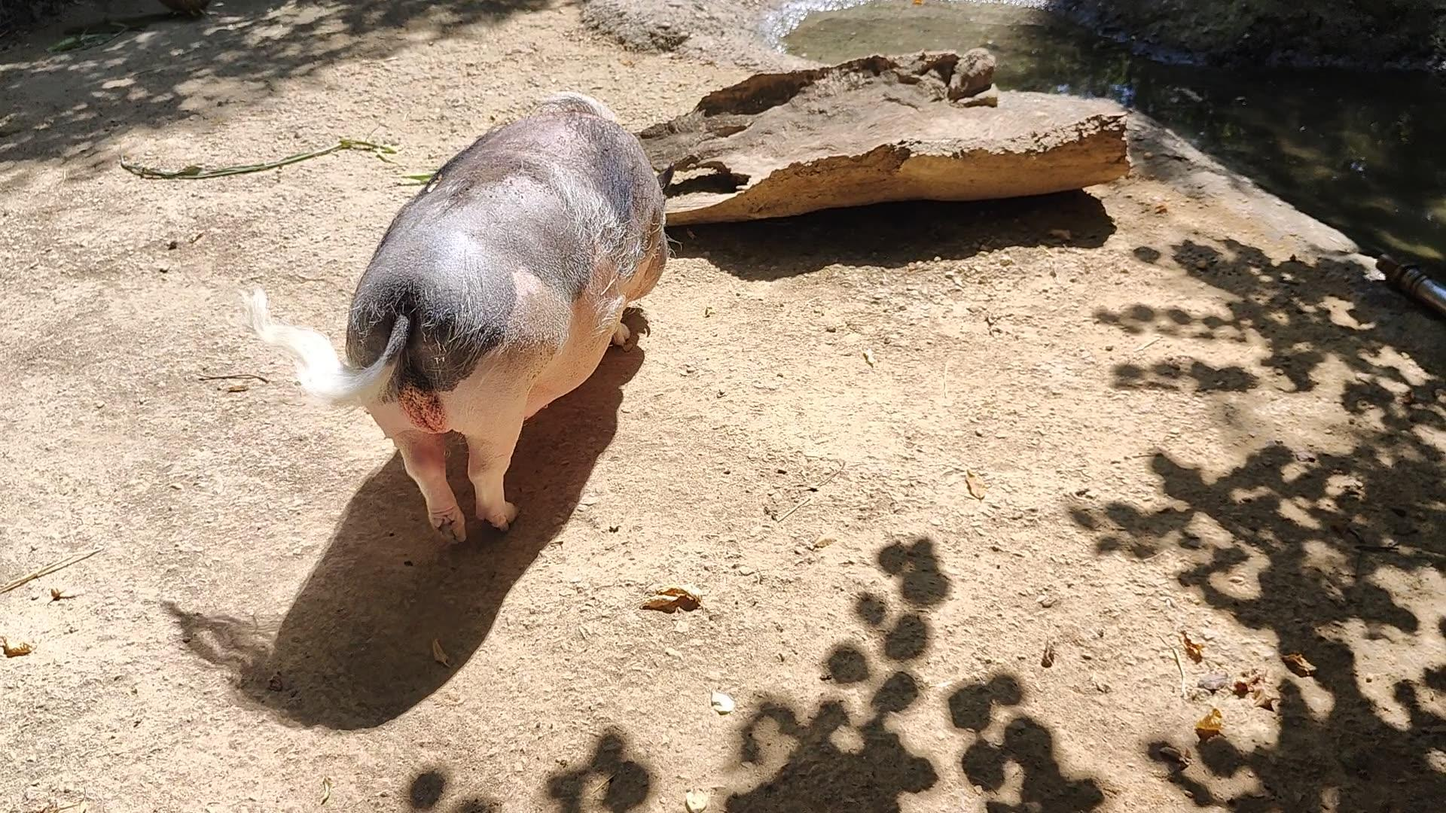bear: (241, 90, 669, 545)
